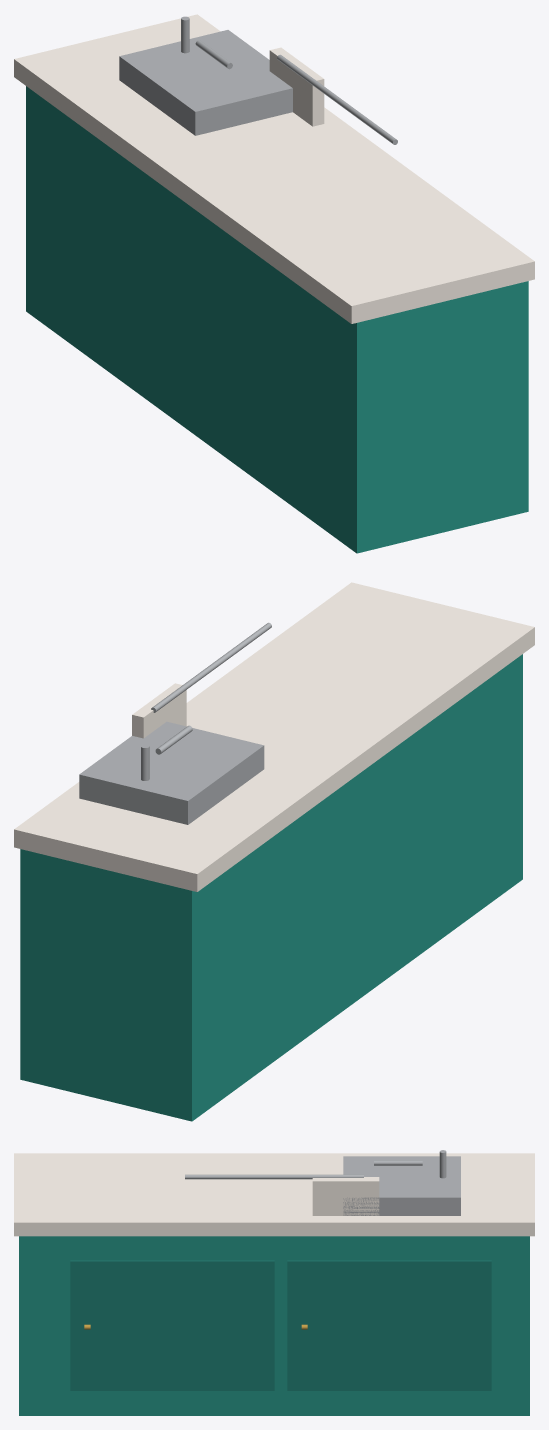
The model's file is cecil_kitchenette.glb.
3 views of the same model, one above another, from view 1: azimuth 30°, elevation 25°; view 2: azimuth 150°, elevation 25°; view 3: azimuth 270°, elevation 25° (orthographic). The views are drawn at different scales.
Parts seen in each view (by area): view 1: base_cabinet, counter_top, sink_basin, hanging_towel, towel_rail; view 2: base_cabinet, counter_top, sink_basin, hanging_towel, towel_rail; view 3: base_cabinet, counter_top, door_inset_0, door_inset_1, sink_basin, hanging_towel, towel_rail.
Boxes of the visible parts, bbox=[...] form: base_cabinet: bbox=[26, 86, 528, 553]; counter_top: bbox=[14, 14, 534, 323]; sink_basin: bbox=[119, 30, 292, 135]; hanging_towel: bbox=[269, 47, 324, 126]; towel_rail: bbox=[277, 54, 397, 144]; base_cabinet: bbox=[20, 654, 522, 1121]; counter_top: bbox=[14, 582, 534, 891]; sink_basin: bbox=[79, 721, 264, 824]; hanging_towel: bbox=[132, 683, 186, 738]; towel_rail: bbox=[151, 622, 271, 712]; base_cabinet: bbox=[19, 1236, 529, 1415]; counter_top: bbox=[14, 1153, 534, 1236]; door_inset_0: bbox=[70, 1260, 274, 1390]; door_inset_1: bbox=[287, 1260, 491, 1390]; sink_basin: bbox=[343, 1156, 460, 1215]; hanging_towel: bbox=[312, 1177, 379, 1215]; towel_rail: bbox=[185, 1174, 363, 1179].
Bounding box in the file's own units: 0.655 × 1.03 × 2.04.
